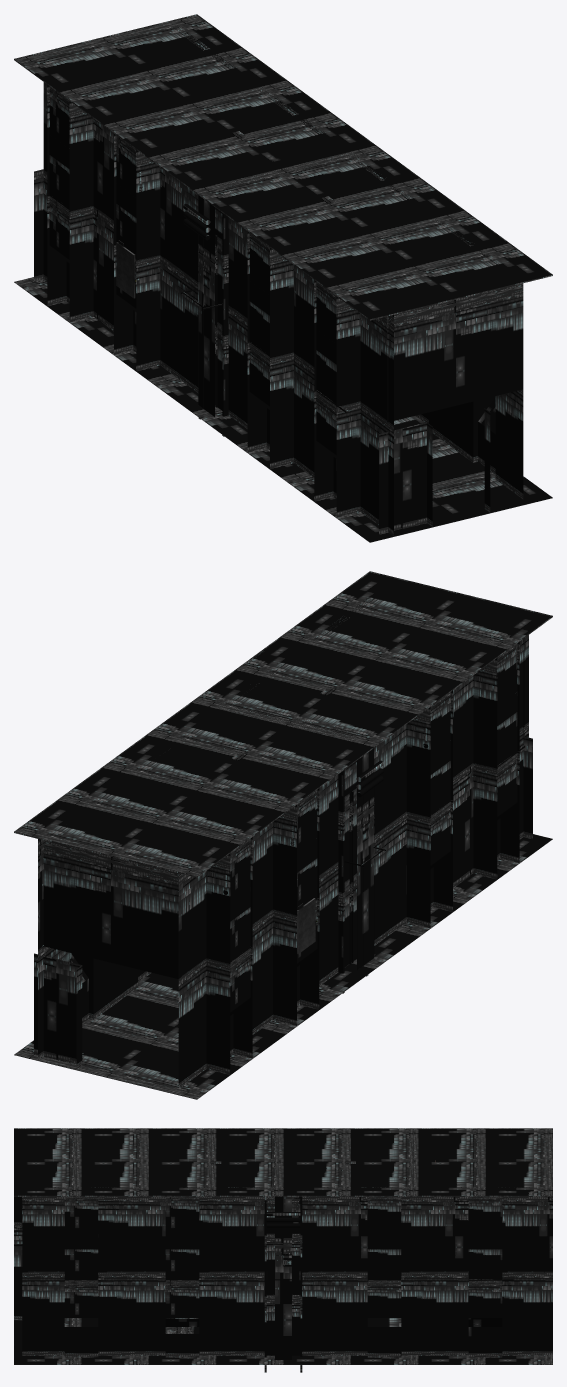
File: room2tesla_lcz_opt.obj
3 views of the same model, one above another, from view 1: azimuth 30°, elevation 25°; view 2: azimuth 150°, elevation 25°; view 3: azimuth 270°, elevation 25° (orthographic). The views are drawn at different scales.
Bounding box in the file's own units: 608 × 779 × 2048.
